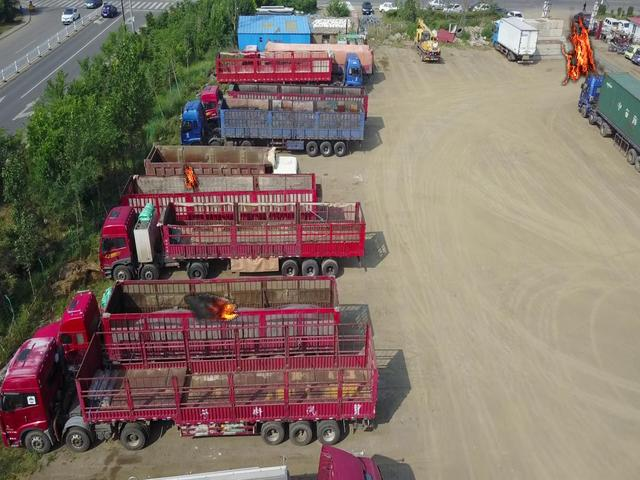fire: (558, 3, 606, 84), (185, 291, 240, 324), (178, 156, 202, 191)
